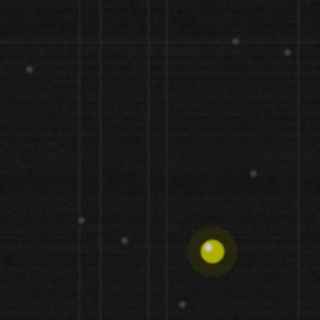yellow_warning: (198, 237, 226, 265)
